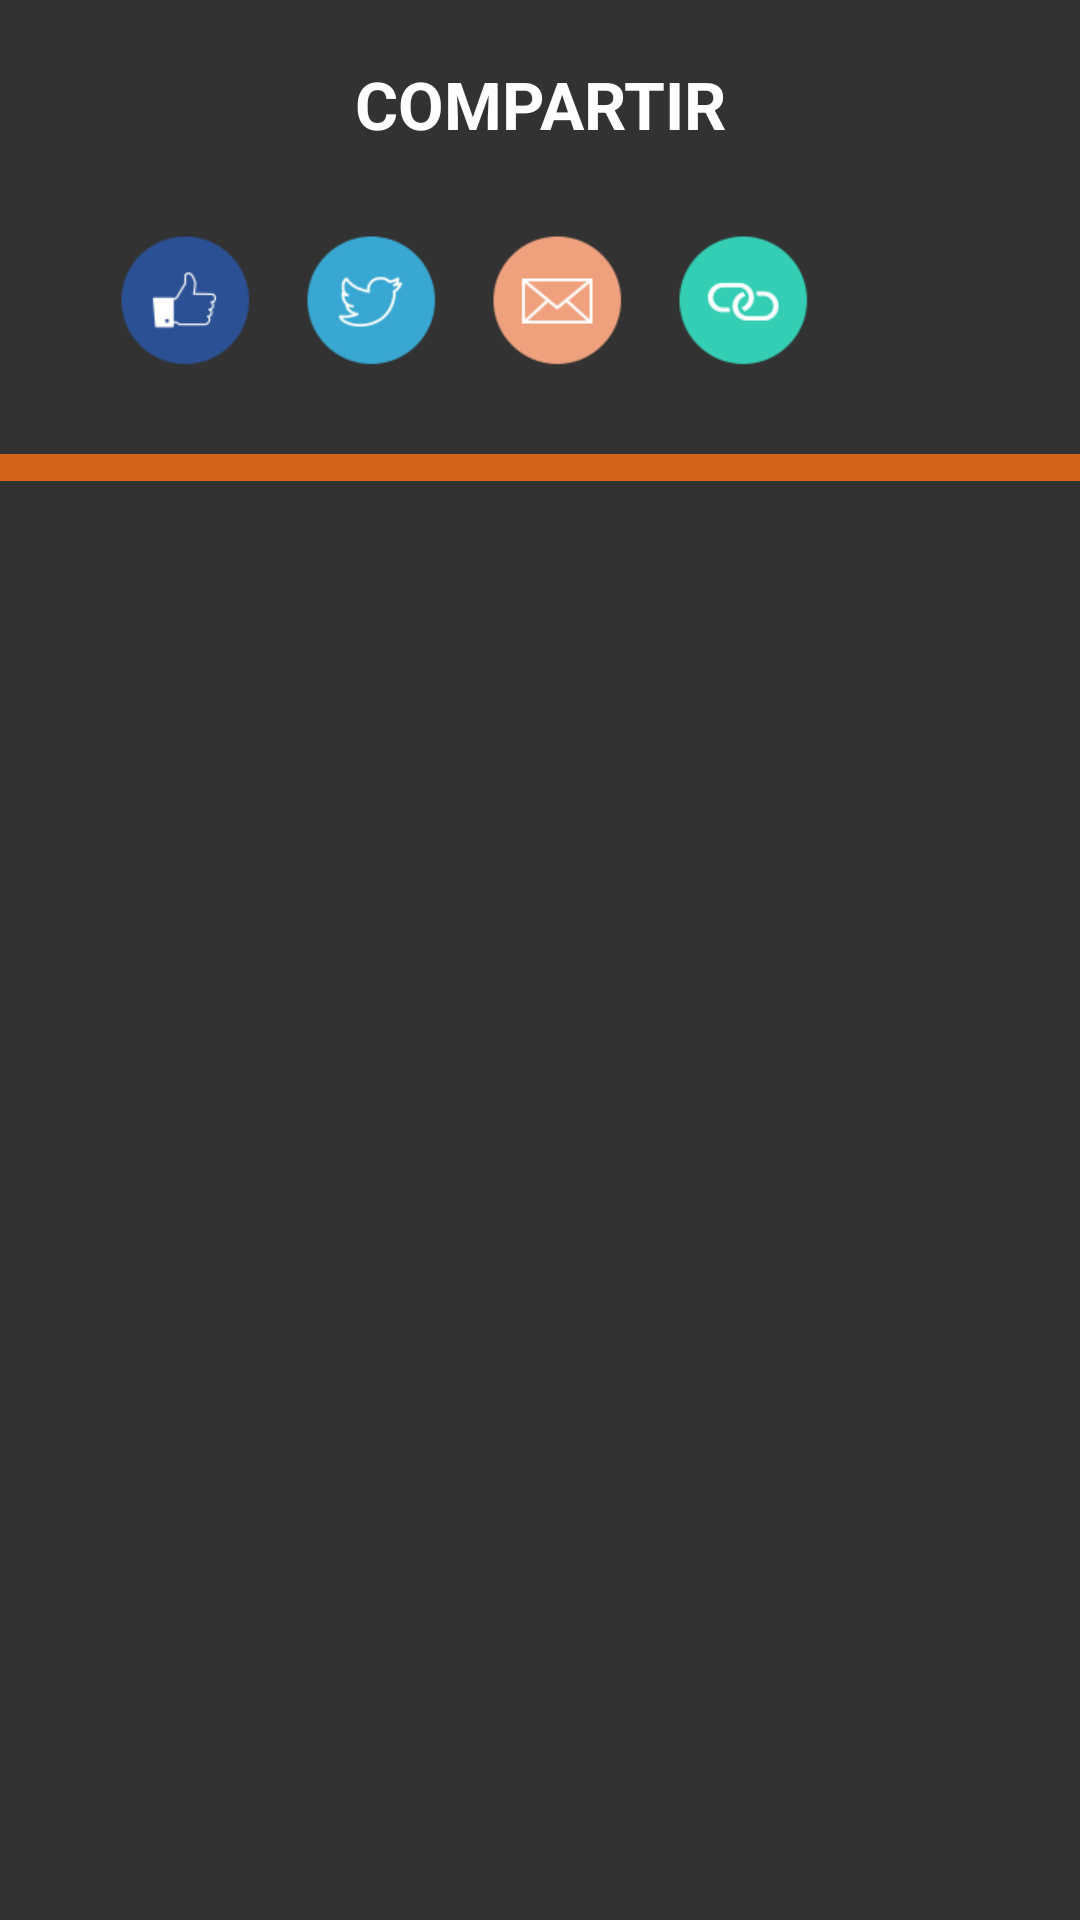

Named icons in this screenshot (1080 × 1920) and their bounding boxes, (x1, y1, x2, y2):
like: (121, 236, 249, 364)
link: (679, 236, 808, 365)
mail: (493, 236, 622, 365)
